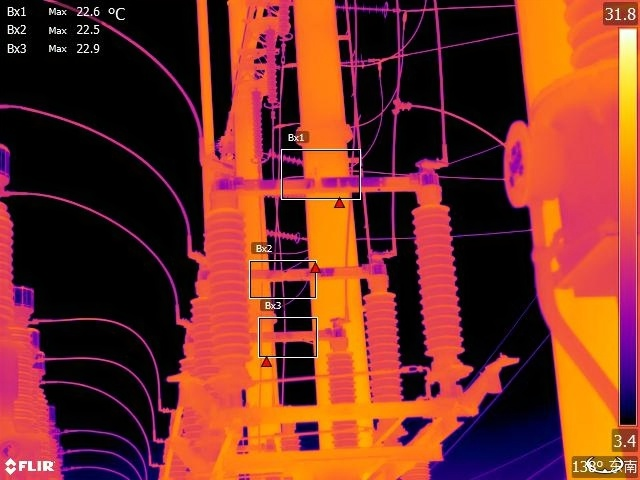clamp: (387, 94, 418, 119), (397, 3, 414, 27), (374, 51, 386, 77)
current transformer: (1, 284, 45, 431), (25, 330, 55, 462), (1, 144, 13, 375)
insulator: (250, 85, 267, 169), (263, 29, 280, 109), (275, 1, 297, 50), (334, 1, 391, 19), (265, 224, 302, 245), (268, 140, 294, 163)
post insulator: (409, 201, 470, 361), (205, 207, 253, 359), (368, 286, 406, 421), (189, 286, 220, 403), (328, 351, 361, 450)
switch: (207, 152, 449, 205), (187, 250, 396, 296), (184, 318, 361, 359)
